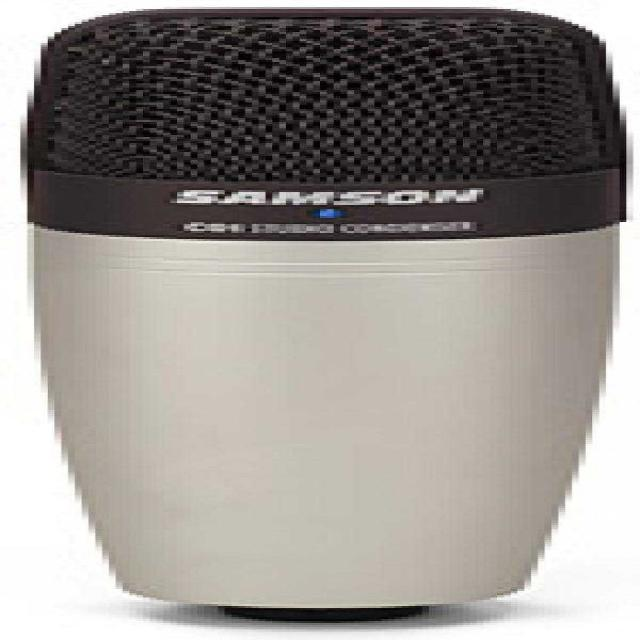microphone: (36, 8, 631, 616)
